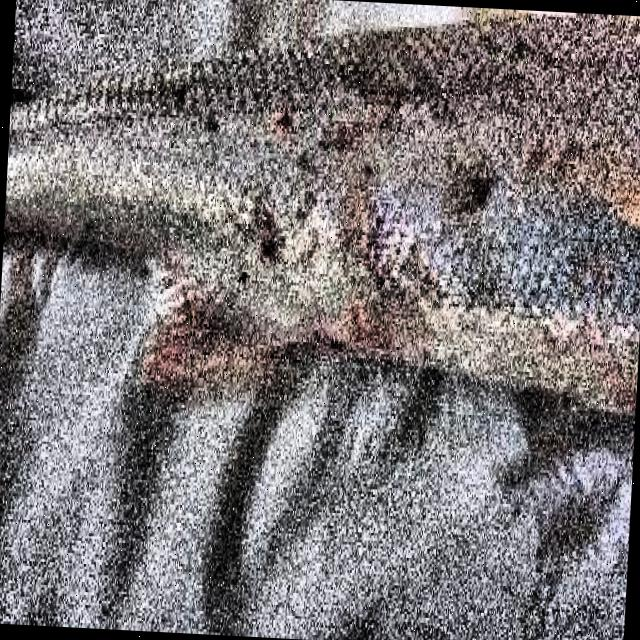mild_red: (7, 18, 640, 404)
